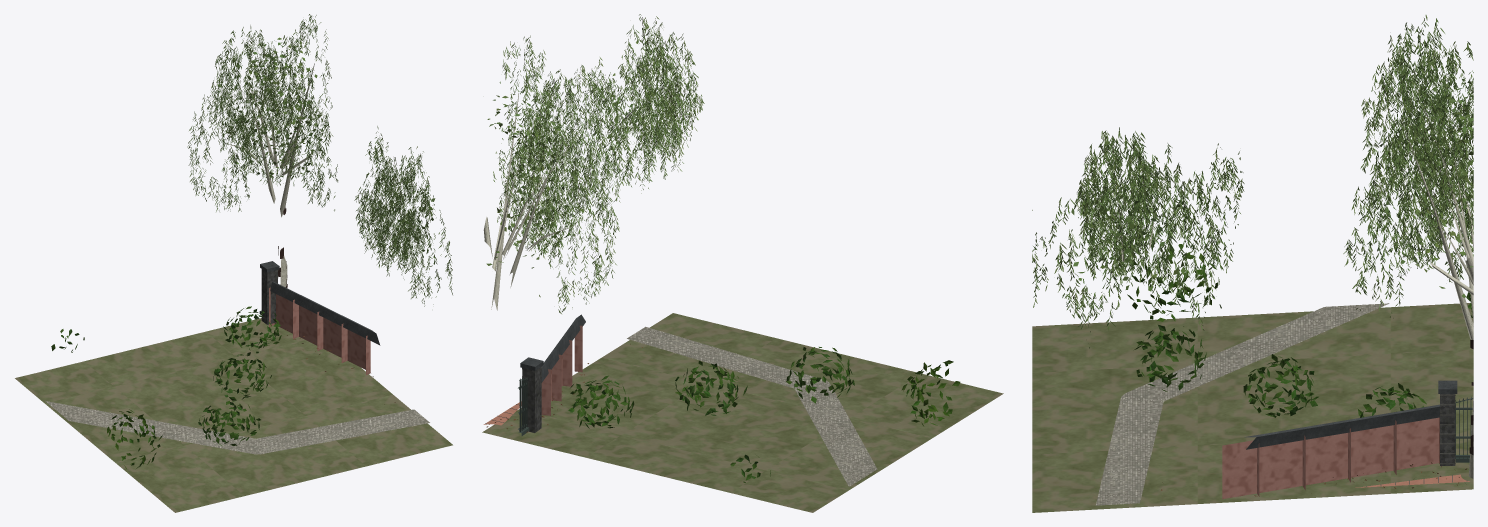
3 views of the same model, side by side, from view 1: azimuth 30°, elevation 25°; view 2: azimuth 150°, elevation 25°; view 3: azimuth 270°, elevation 25° (orthographic). The views are drawn at different scales.
Size of the model in its own units: 16 by 18.32 by 16.
Materials: 15 (14 with a texture image).
